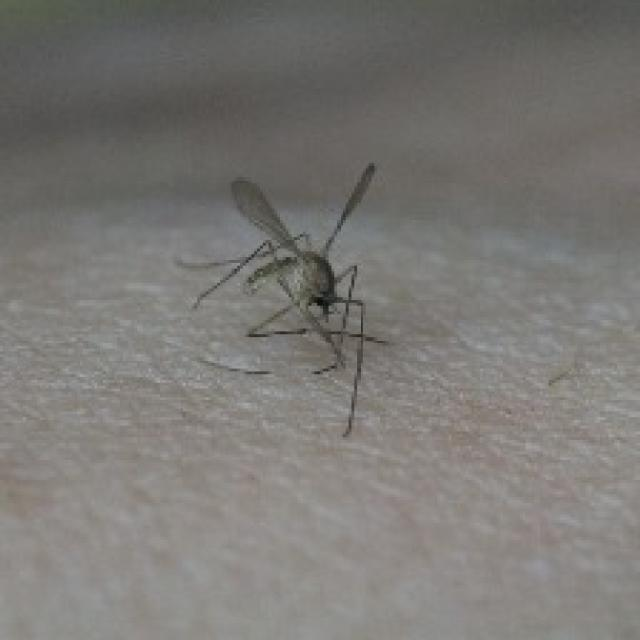culex: (174, 160, 389, 437)
